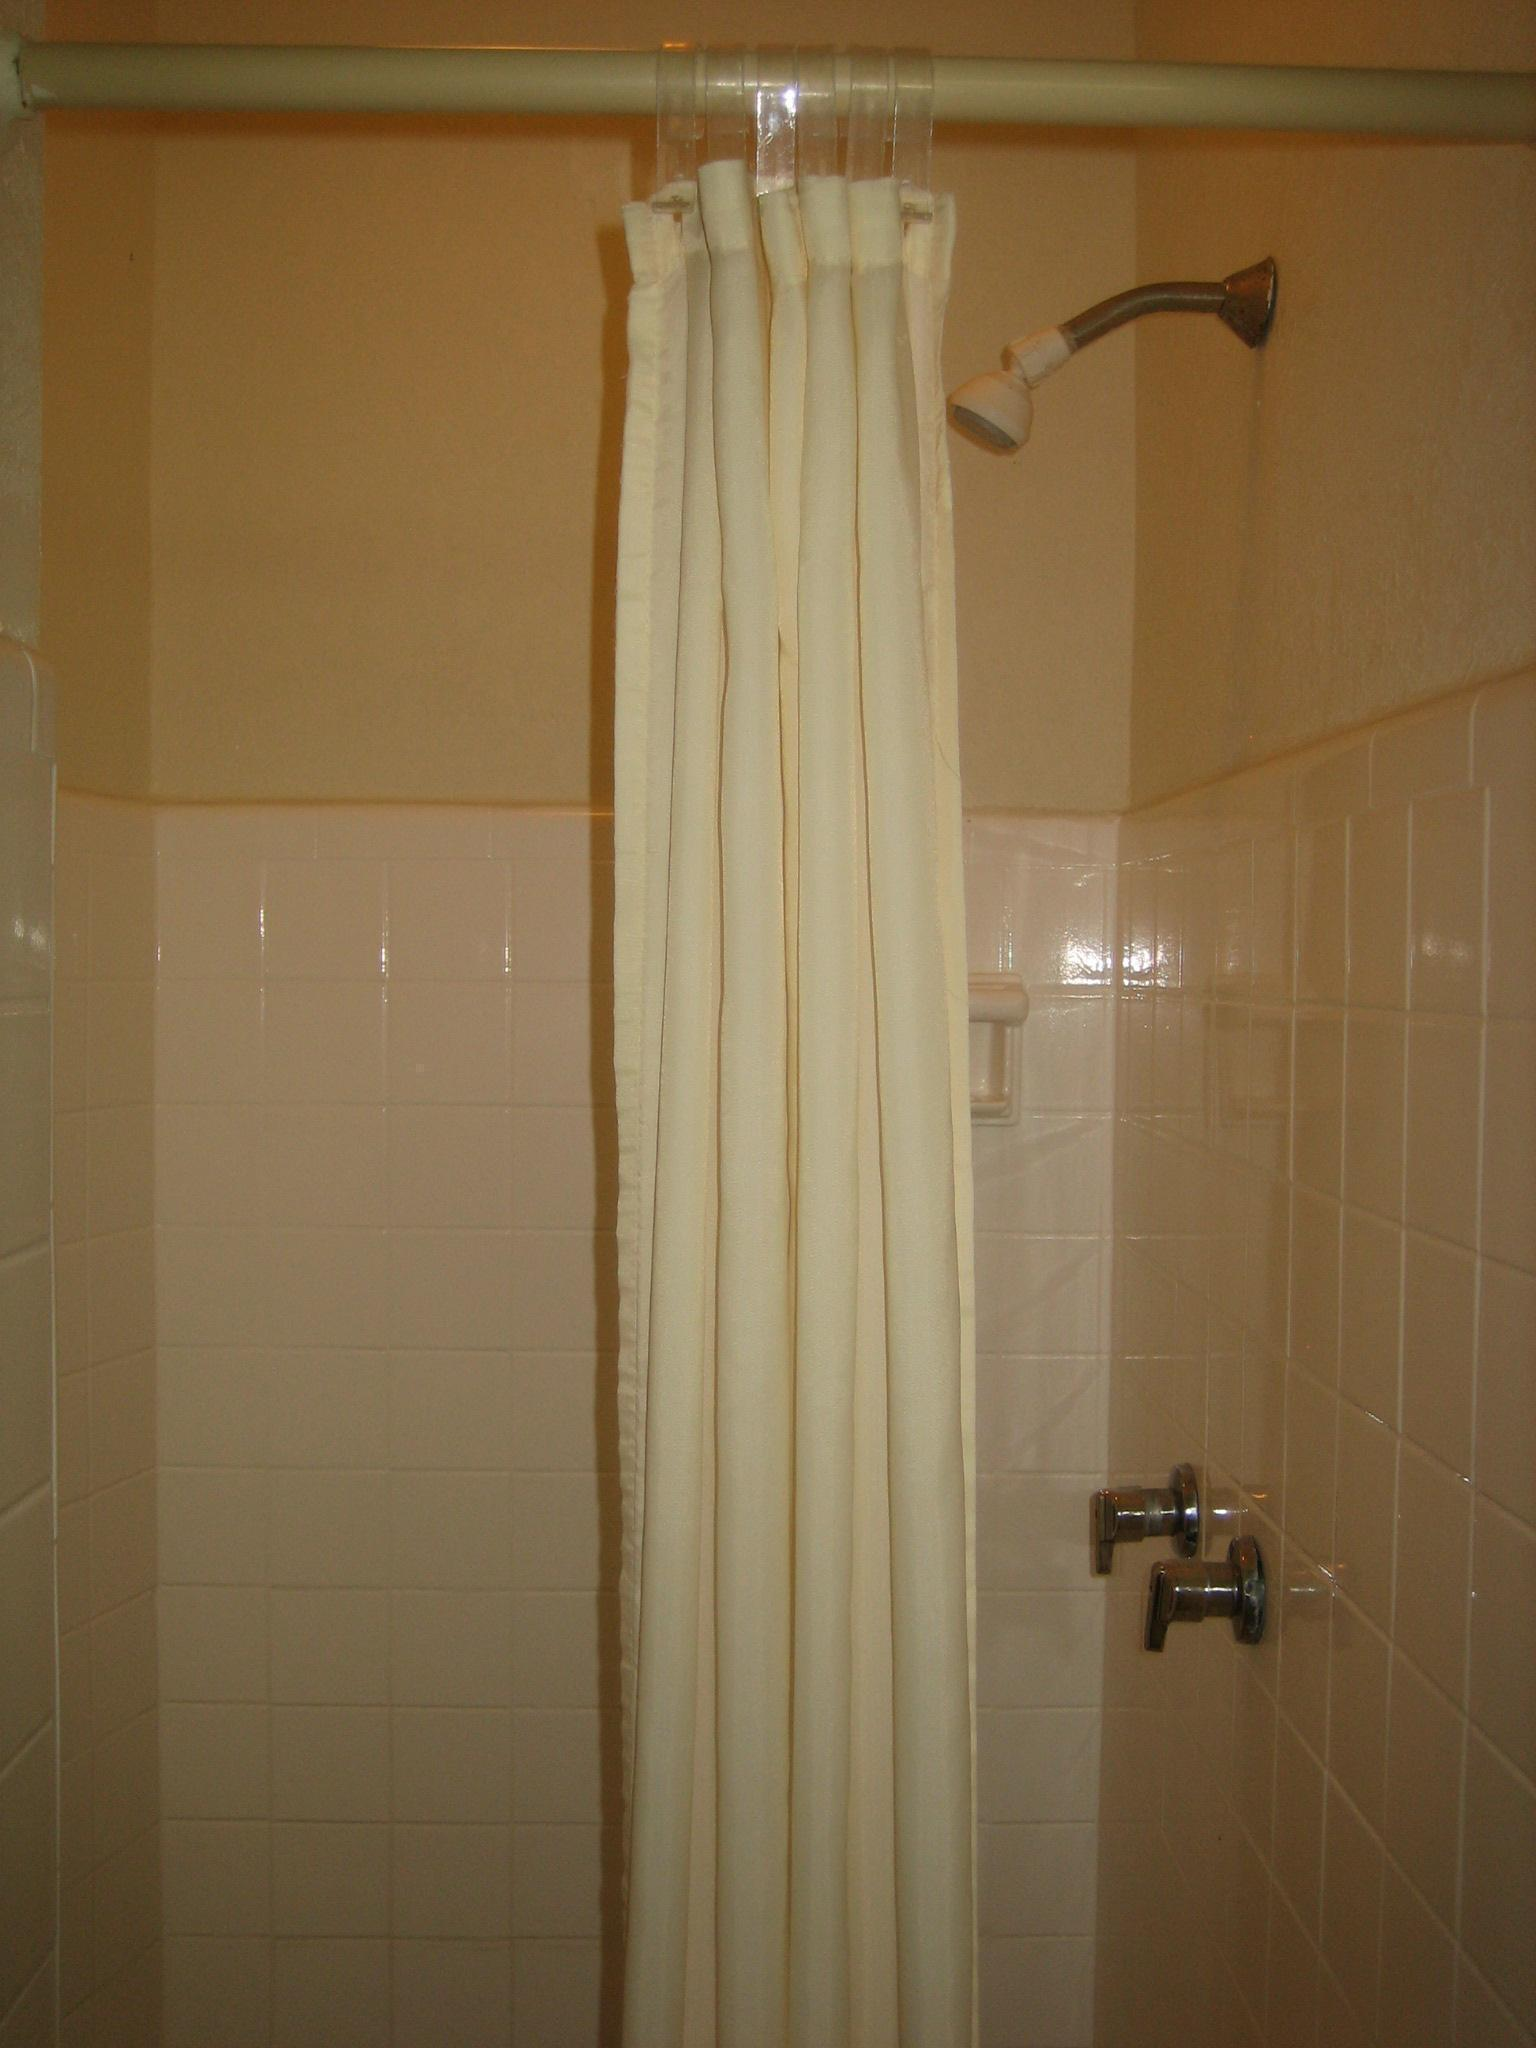Ducha: (42, 123, 1512, 1980)
